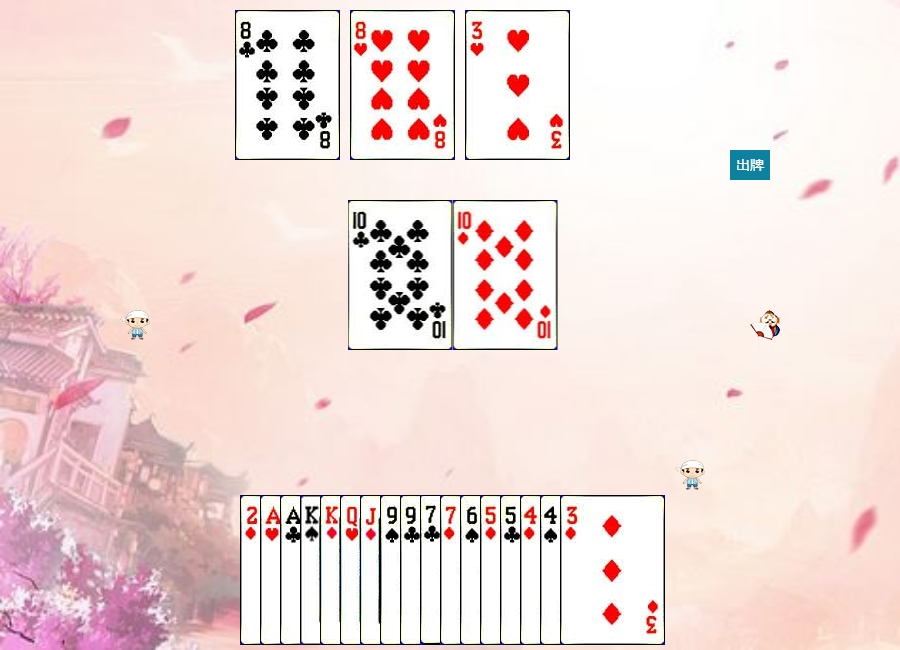10~1: (453, 200, 558, 350)
10~2: (348, 200, 453, 350)
11~1: (360, 495, 465, 645)
12~3: (340, 495, 445, 645)
13~1: (320, 495, 425, 645)
13~4: (300, 495, 405, 645)
14~2: (280, 495, 385, 645)
14~3: (260, 495, 365, 645)
15~1: (240, 495, 345, 645)
3~1: (560, 495, 665, 645)
3~3: (465, 10, 570, 160)
4~1: (520, 495, 625, 645)
4~4: (540, 495, 645, 645)
5~1: (480, 495, 585, 645)
5~2: (500, 495, 605, 645)
6~4: (460, 495, 565, 645)
7~1: (440, 495, 545, 645)
7~2: (420, 495, 525, 645)
8~2: (235, 10, 340, 160)
8~3: (350, 10, 455, 160)
9~2: (400, 495, 505, 645)
9~4: (380, 495, 485, 645)
